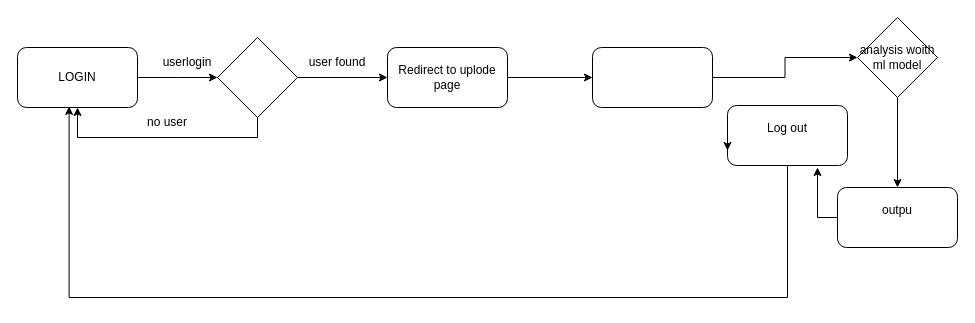
This 975x323 diagram has some shape labels left out. The centre of each missing label's shape, as x and y in pixels:
check database: the point at 257,77
upload image: the point at 652,77
